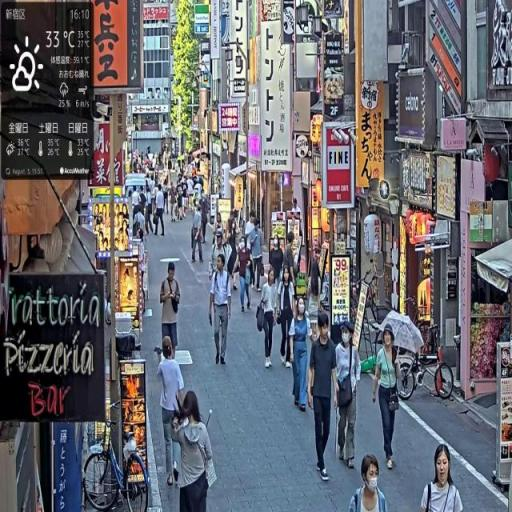person: (170, 390, 218, 512), (308, 309, 340, 488), (372, 326, 403, 476), (333, 321, 363, 471), (158, 337, 187, 488), (420, 444, 464, 512), (208, 253, 233, 369), (289, 300, 314, 415), (350, 454, 390, 512), (257, 268, 279, 373), (160, 262, 183, 361), (277, 267, 296, 368), (191, 204, 206, 265)
